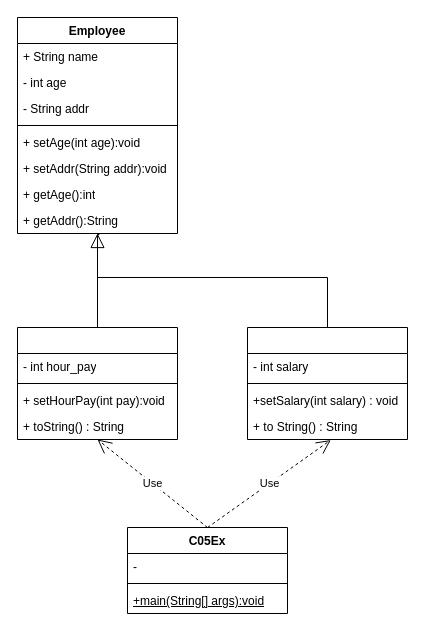
This 425x634 diagram has some shape labels left out. The shapes that lost their labels are listed below. From the top down, each one's box as (x1, y1, x2, y2) in pixels, then its label:
(16, 326, 178, 440): Parttimer
(246, 326, 408, 440): Regular
